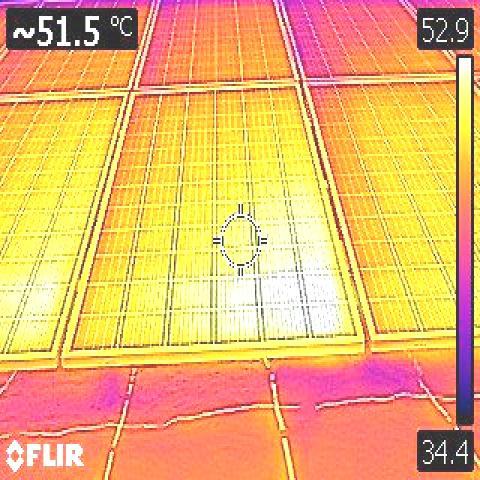fault: (261, 269, 341, 336)
